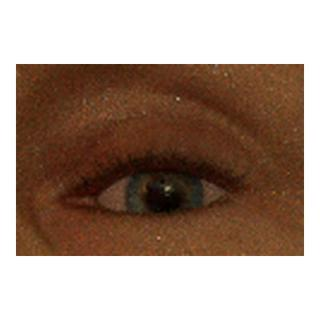pupil: (148, 181, 180, 214)
